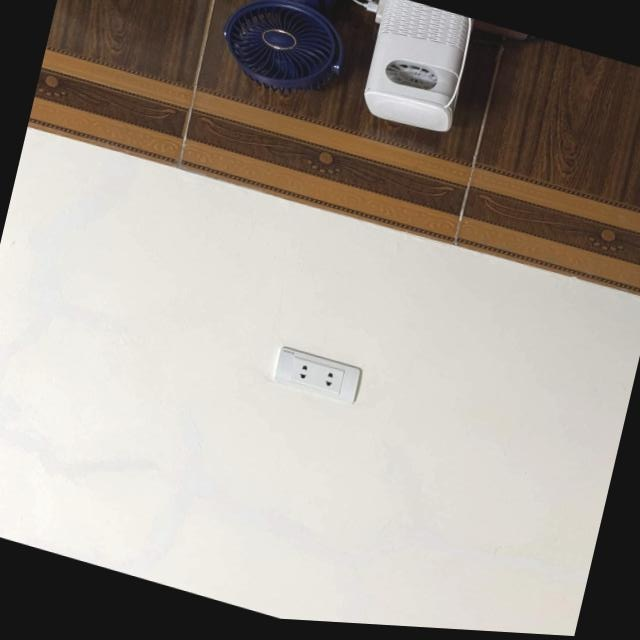outlet: (272, 343, 364, 405)
